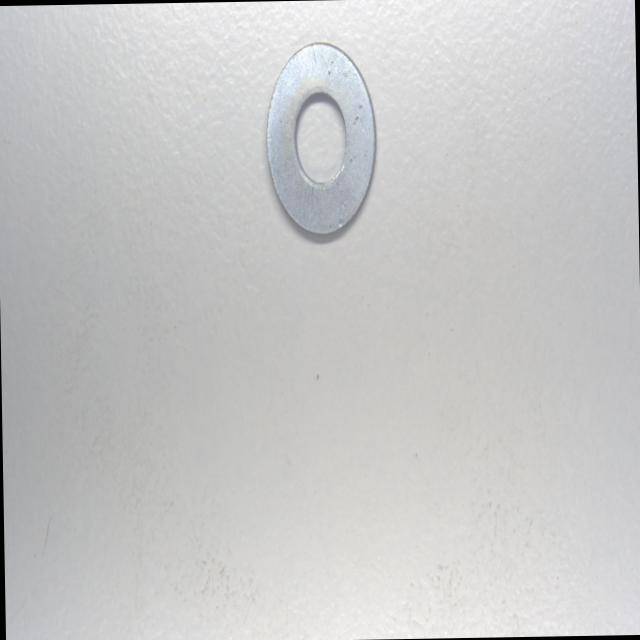washer: (262, 39, 379, 241)
